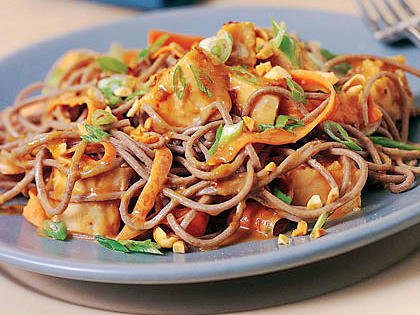Soba: (6, 41, 420, 249)
